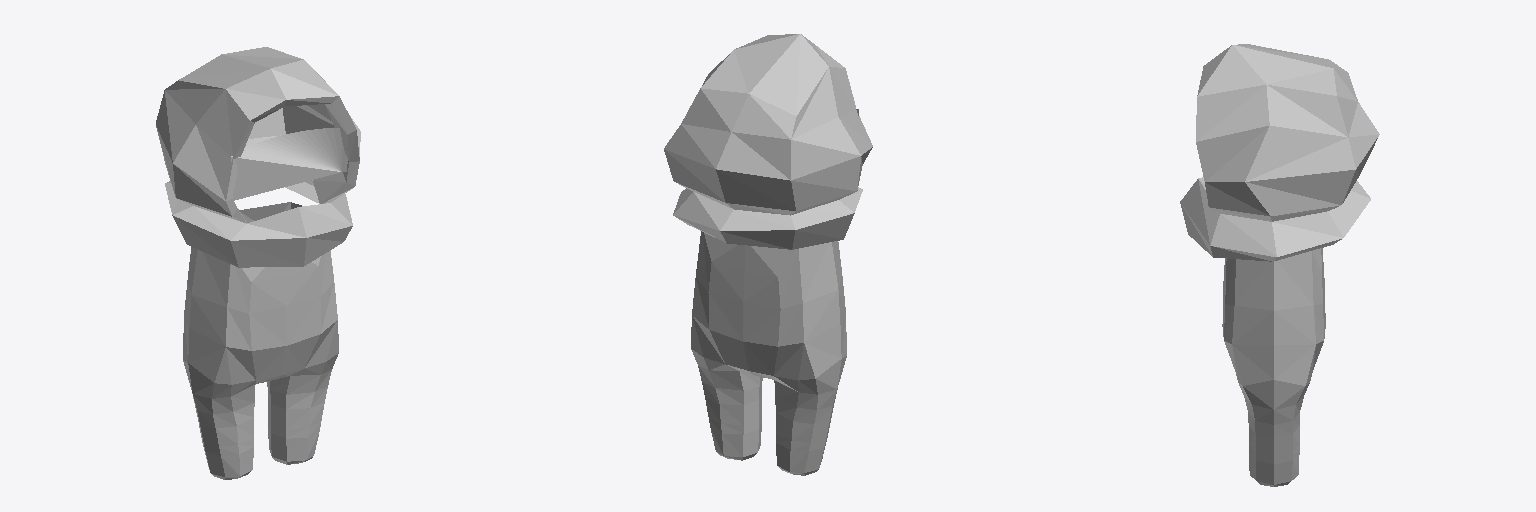
Rendered from character.obj.
3 renders of one model, left to right at view 1: azimuth 30°, elevation 25°; view 2: azimuth 150°, elevation 25°; view 3: azimuth 270°, elevation 25°, orthographic.
Parts seen in each view (by area): view 1: character; view 2: character; view 3: character.
Part boxes in pixels (x1,y1,x2,y2): character: (156,47,360,479); character: (664,34,872,475); character: (1180,44,1379,486).
Bounding box in the file's own units: 2.93 × 6.57 × 2.87.